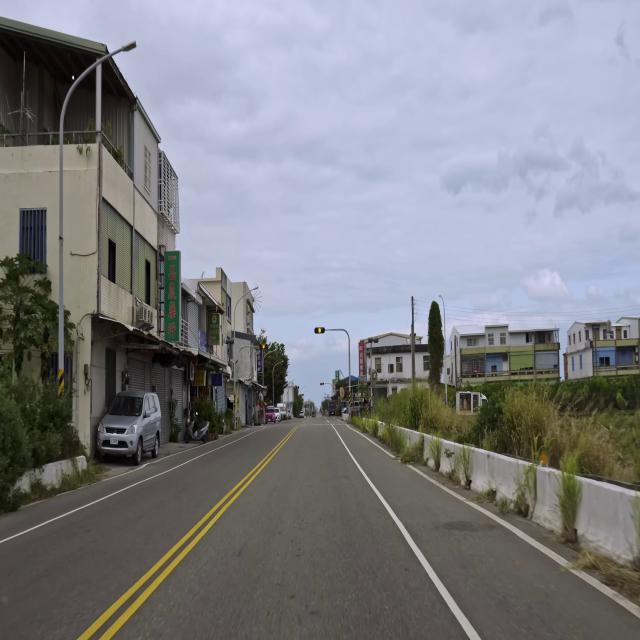yellow light: (315, 327, 325, 334), (259, 344, 268, 350)
